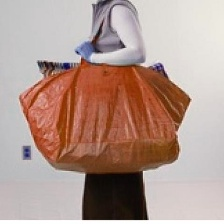plastic_bag: (14, 55, 197, 177)
